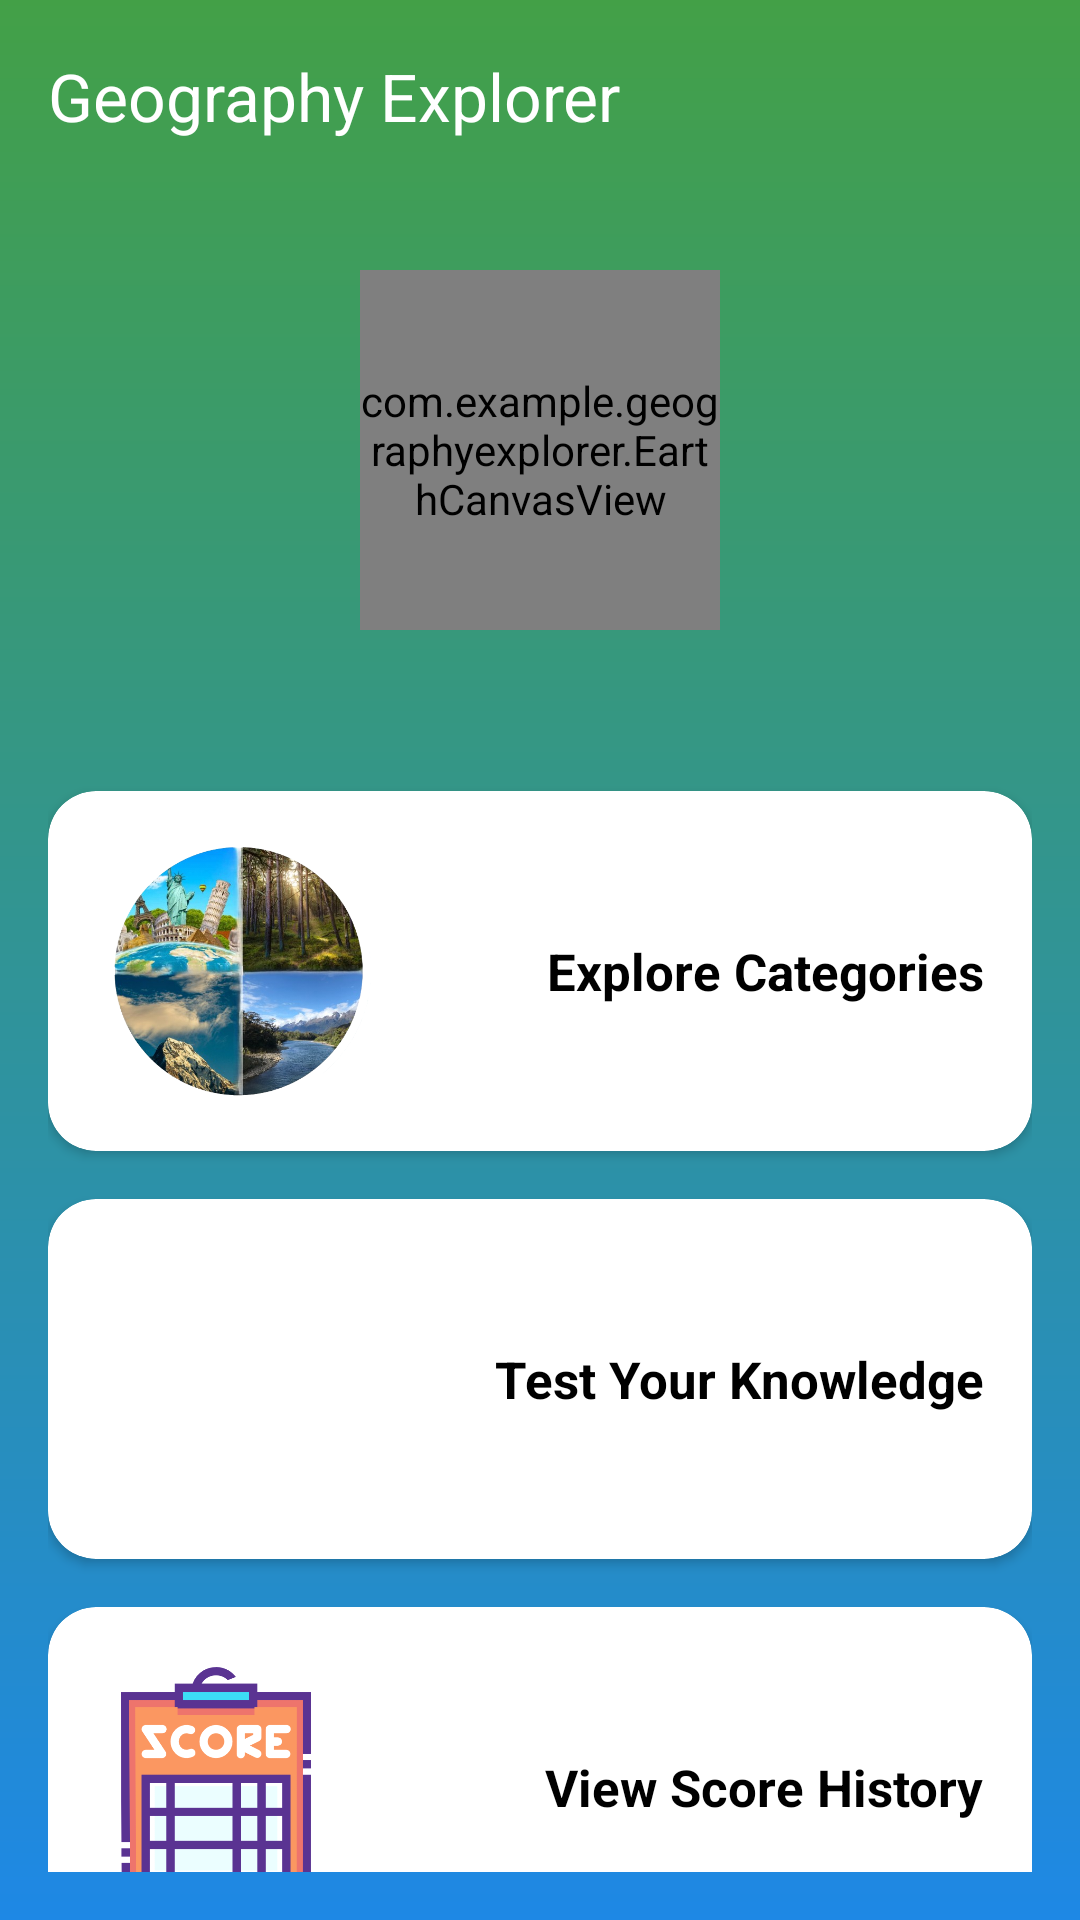

Locate icon controls on the screen. Image size 1080×1920, boxes as box(x1, y1, x2, y2).
categories: box(114, 847, 363, 1096)
